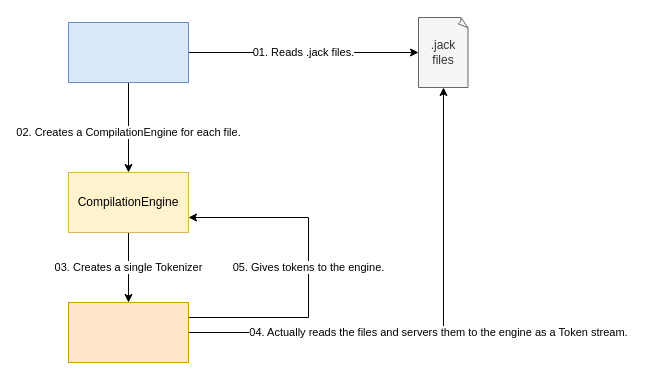
Image size: 645x380. Some labels were removed from this diagram. Here are the shapes that lost their labels. From the top down, the box of each, then its label:
(68, 22, 188, 82): JackAnalyzer
(68, 302, 188, 362): JackTokenizer
